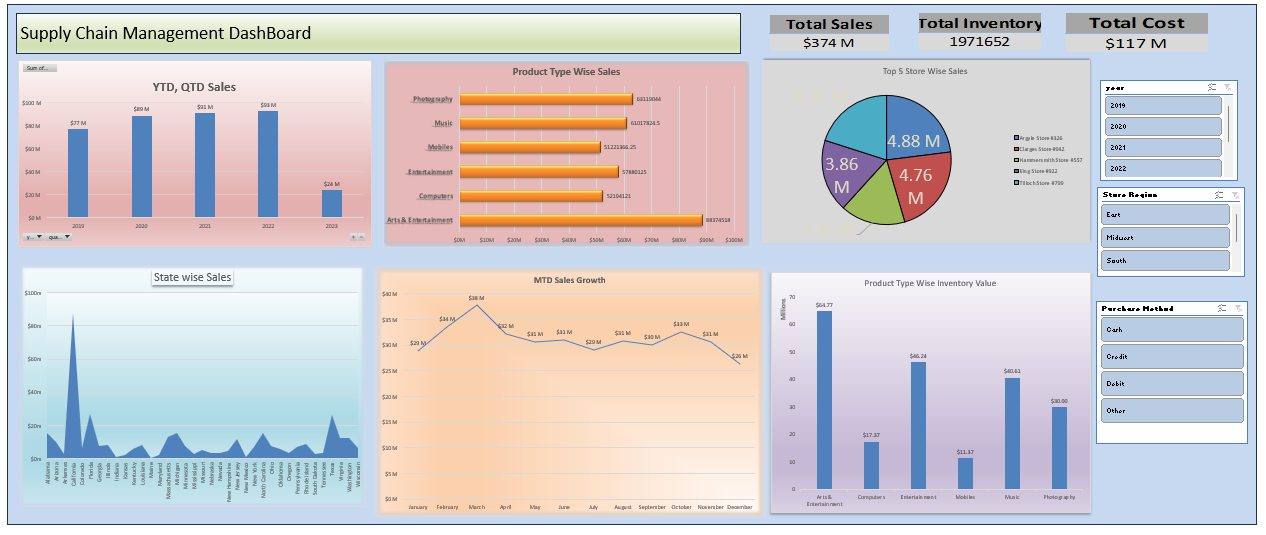

The page's visual inventory and layout, read from the dashboard file:
{"tool":"tableau","page":{"name":"Dashboard 1","canvas":[1000,1000],"units":"permille","ordinal":0},"visuals":[{"type":"text","box":[6.9,14.7,294.7,120.6]},{"type":"worksheet","title":"INVENTORY","mark":"Automatic","box":[301.7,14.7,236.6,120.6]},{"type":"worksheet","title":"COST","mark":"Automatic","box":[538.2,14.7,224.2,120.6]},{"type":"worksheet","title":"SALES","mark":"Automatic","box":[762.4,14.7,230.7,120.6]},{"type":"worksheet","title":"YTD,QTD ","mark":"Bar","rows":["sales"],"cols":["Date"],"box":[6.9,135.3,284.2,424]},{"type":"worksheet","title":"Month","mark":"Automatic","rows":["sales"],"cols":["Date"],"box":[291.1,135.3,279.5,424]},{"type":"worksheet","title":"State ","mark":"Automatic","rows":["Store Latitude"],"cols":["Store Longitude"],"box":[570.6,135.3,331.5,424]},{"type":"parameter","param":"[Parameters].[Parameter 1]","box":[902.2,135.3,90.9,196.7]},{"type":"legend","title":"YTD,QTD ","param":"[federated.1ykt4r01y7nywo174hsd40ao84oi].[qr:Date:ok]","box":[235.5,141.5,52,159.9]},{"type":"filter","title":"YTD,QTD ","param":"[federated.1ykt4r01y7nywo174hsd40ao84oi].[yr:Date:ok]","box":[902.2,332,90.9,217.8]},{"type":"filter","title":"Store Region","param":"[federated.1ykt4r01y7nywo174hsd40ao84oi].[none:Store Region:nk]","box":[902.2,549.8,90.9,217.8]},{"type":"worksheet","title":"Top 5 store","mark":"Square","rows":["Store Name"],"box":[6.9,559.3,241.6,425.9]},{"type":"worksheet","title":"Product Type","mark":"Automatic","rows":["Product Type"],"cols":["sales"],"box":[248.5,559.3,382.6,425.9]},{"type":"worksheet","title":"Store Region","mark":"Pie","rows":["Calculation_1515742810449965062","Calculation_1515742810449965062"],"box":[631.1,559.3,271.1,425.9]},{"type":"worksheet","title":"Purchase method","mark":"Automatic","box":[902.2,722.1,90.9,56]},{"type":"filter","title":"Purchase method","param":"[federated.1ykt4r01y7nywo174hsd40ao84oi].[none:Purchase Method:nk]","box":[902.2,767.5,90.9,217.8]}]}

Visuals, with their boxes on the dashboard's canvas, which has no fixed pixel size, in thousandths of its width and height (x1, y1, x2, y2). These are canvas units, not pixel positions in the 1266x535 screenshot, which may show the page scaled, cropped or inside an application window:
text: <bbox>7, 15, 302, 135</bbox>
"INVENTORY" worksheet: <bbox>302, 15, 538, 135</bbox>
"COST" worksheet: <bbox>538, 15, 762, 135</bbox>
"SALES" worksheet: <bbox>762, 15, 993, 135</bbox>
"YTD,QTD " worksheet (Bar marks): <bbox>7, 135, 291, 559</bbox>
"Month" worksheet: <bbox>291, 135, 571, 559</bbox>
"State " worksheet: <bbox>571, 135, 902, 559</bbox>
parameter: <bbox>902, 135, 993, 332</bbox>
"YTD,QTD " legend: <bbox>236, 142, 288, 301</bbox>
"YTD,QTD " filter: <bbox>902, 332, 993, 550</bbox>
"Store Region" filter: <bbox>902, 550, 993, 768</bbox>
"Top 5 store" worksheet (Square marks): <bbox>7, 559, 248, 985</bbox>
"Product Type" worksheet: <bbox>248, 559, 631, 985</bbox>
"Store Region" worksheet (Pie marks): <bbox>631, 559, 902, 985</bbox>
"Purchase method" worksheet: <bbox>902, 722, 993, 778</bbox>
"Purchase method" filter: <bbox>902, 768, 993, 985</bbox>
